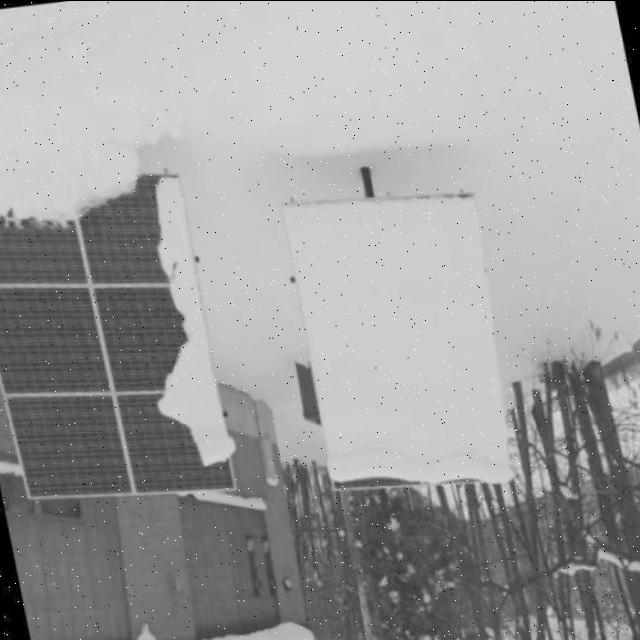Anomaly Solar Panel: (0, 172, 237, 516), (277, 192, 503, 493)
Snow: (279, 193, 503, 492), (109, 173, 232, 475), (0, 179, 76, 239)
